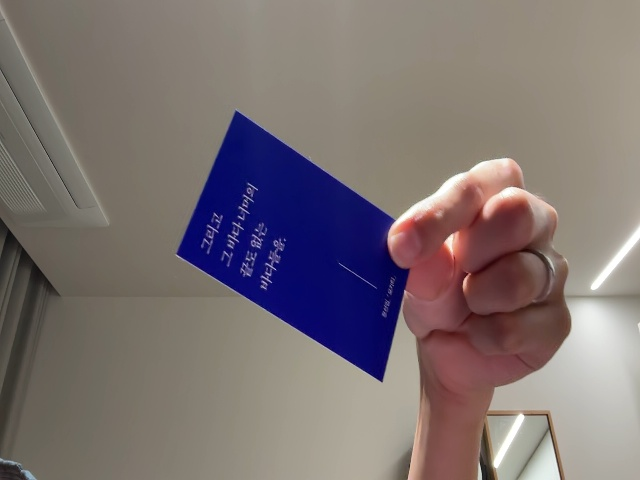card: (176, 110, 424, 386)
